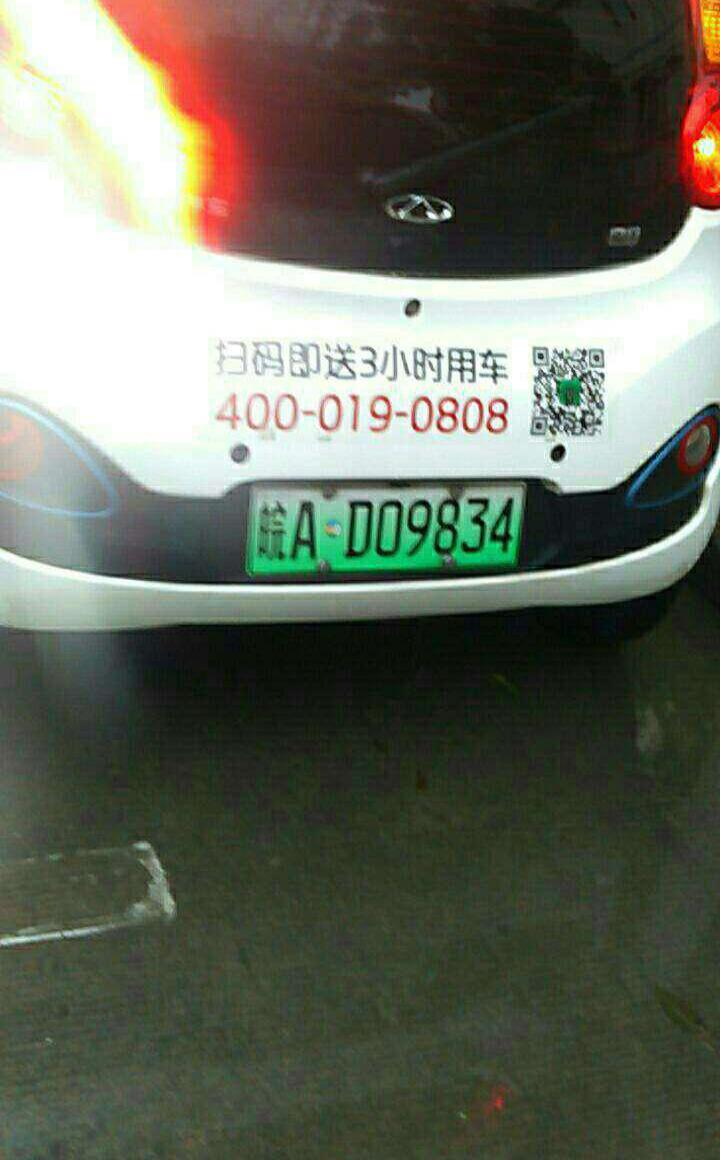car: (244, 487, 525, 585)
